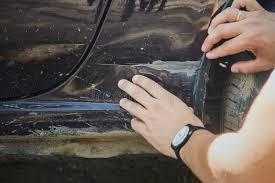scratch: (7, 51, 202, 139)
